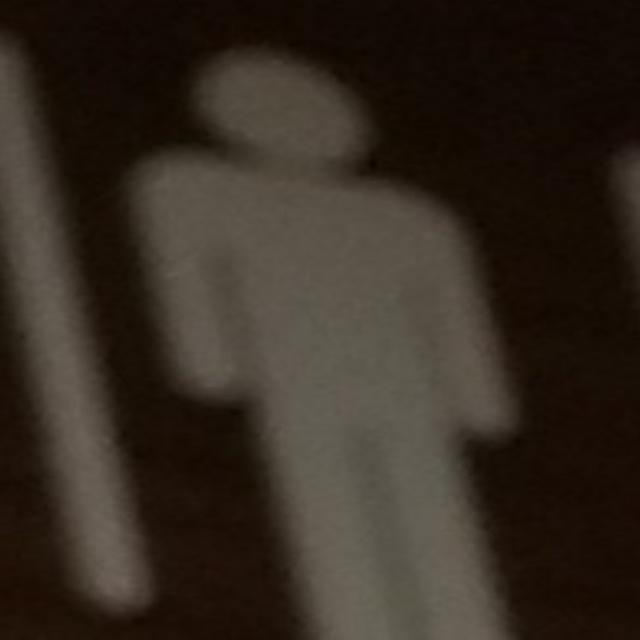mens_restroom: (130, 49, 512, 639)
